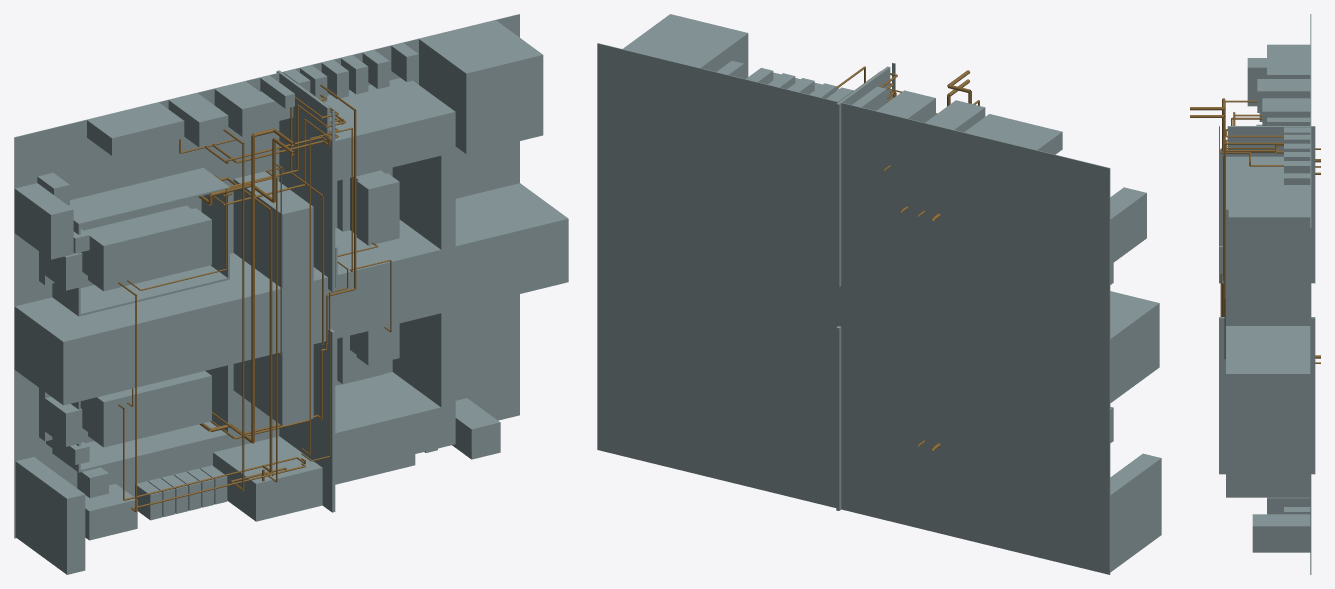
File: Minato_Maru_Fuel_C1.obj
The picture shows the model from 3 angles, left to right: view 1: azimuth 30°, elevation 25°; view 2: azimuth 150°, elevation 25°; view 3: azimuth 270°, elevation 25°; orthographic projection. The views are drawn at different scales.
Visible parts, largest first — view 1: E53_reserved_central_access, E58_reserved_removable_floor_plates, E44_sewage_holding_tank, E54_reserved_forward_engine_service, E57_reserved_generator_cross_aisle, E56_reserved_generator_stbd_aisle, E55_reserved_generator_port_aisle, E3_main_engine, E20_main_switchboard, E7_main_engine, E29_fuel_service_tank, E60_ER_forward_bulkhead_port (+31 smaller); view 2: E58_reserved_removable_floor_plates, E20_main_switchboard, E44_sewage_holding_tank, E53_reserved_central_access, E15_air_bottles, E17_workbench, E19_oily-water_separator, E18_fuel_purifier, E59_ER_forward_bulkhead_stbd, E60_ER_forward_bulkhead_port, E61_ER_sleeve_lower_boundary; view 3: E57_reserved_generator_cross_aisle, E53_reserved_central_access, E44_sewage_holding_tank, E52_pressure_tank, E59_ER_forward_bulkhead_stbd, E55_reserved_generator_port_aisle, E17_workbench, E61_ER_sleeve_lower_boundary, E60_ER_forward_bulkhead_port, E18_fuel_purifier, E58_reserved_removable_floor_plates, E19_oily-water_separator (+12 smaller).
Boxes of the visible parts, <box> form: E53_reserved_central_access: <box>14,183,568,405</box>; E58_reserved_removable_floor_plates: <box>14,14,519,538</box>; E44_sewage_holding_tank: <box>419,20,543,153</box>; E54_reserved_forward_engine_service: <box>233,171,313,425</box>; E57_reserved_generator_cross_aisle: <box>392,78,455,445</box>; E56_reserved_generator_stbd_aisle: <box>279,372,450,473</box>; E55_reserved_generator_port_aisle: <box>279,78,450,181</box>; E3_main_engine: <box>88,208,211,291</box>; E20_main_switchboard: <box>15,457,85,574</box>; E7_main_engine: <box>88,371,211,447</box>; E29_fuel_service_tank: <box>213,436,322,521</box>; E60_ER_forward_bulkhead_port: <box>279,112,335,291</box>; E58_reserved_removable_floor_plates: <box>597,43,1110,574</box>; E20_main_switchboard: <box>1110,453,1161,572</box>; E44_sewage_holding_tank: <box>623,14,748,78</box>; E53_reserved_central_access: <box>1110,291,1159,403</box>; E15_air_bottles: <box>1110,187,1146,264</box>; E17_workbench: <box>964,114,1062,154</box>; E19_oily-water_separator: <box>876,90,935,122</box>; E18_fuel_purifier: <box>925,100,985,132</box>; E59_ER_forward_bulkhead_stbd: <box>836,326,841,510</box>; E60_ER_forward_bulkhead_port: <box>836,95,892,287</box>; E61_ER_sleeve_lower_boundary: <box>836,66,890,133</box>; E57_reserved_generator_cross_aisle: <box>1226,207,1310,497</box>; E53_reserved_central_access: <box>1226,326,1310,428</box>; E44_sewage_holding_tank: <box>1228,185,1310,287</box>; E52_pressure_tank: <box>1252,514,1310,552</box>; E59_ER_forward_bulkhead_stbd: <box>1219,317,1315,474</box>; E55_reserved_generator_port_aisle: <box>1226,156,1283,207</box>; E17_workbench: <box>1267,44,1310,78</box>; E61_ER_sleeve_lower_boundary: <box>1227,126,1315,152</box>; E60_ER_forward_bulkhead_port: <box>1219,151,1315,283</box>; E18_fuel_purifier: <box>1257,79,1310,112</box>; E58_reserved_removable_floor_plates: <box>1310,14,1311,574</box>; E19_oily-water_separator: <box>1262,98,1310,125</box>.
Size of the model in its own units: 10500 by 7960 by 2720.
